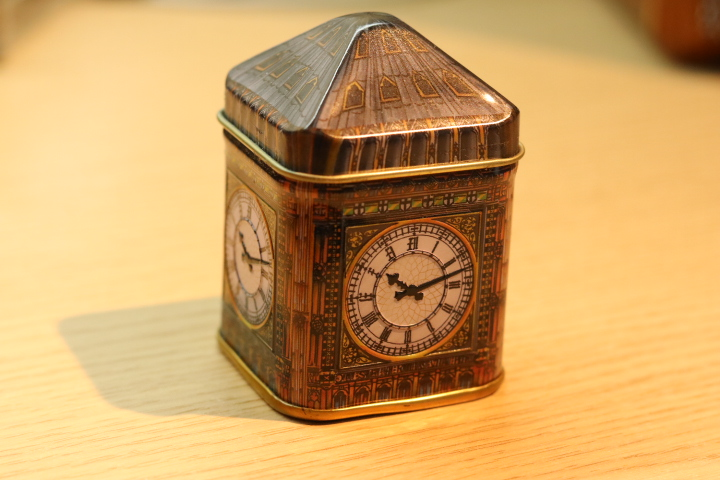Big Ben: (211, 5, 537, 441)
